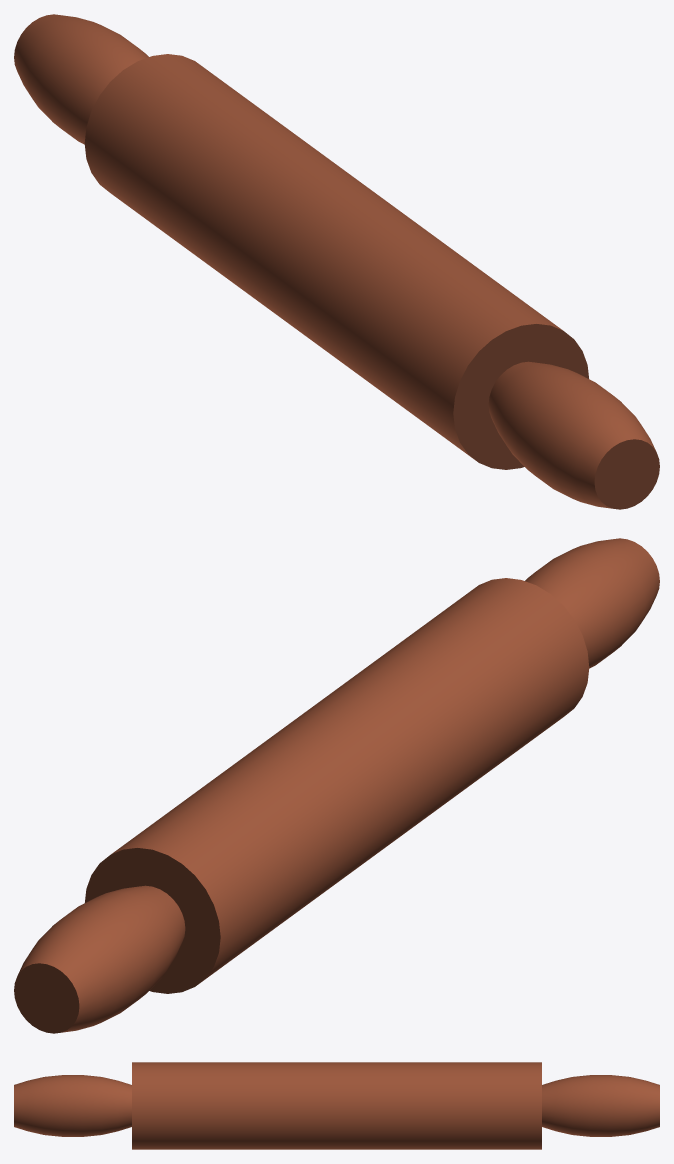
Rendered from Rolling Pin.fbx.
3 views of the same model, one above another, from view 1: azimuth 30°, elevation 25°; view 2: azimuth 150°, elevation 25°; view 3: azimuth 270°, elevation 25° (orthographic). The views are drawn at different scales.
Parts seen in each view (by area): view 1: Rolling Pin; view 2: Rolling Pin; view 3: Rolling Pin.
Boxes of the visible parts, <box> form: Rolling Pin: <box>14,14,659,509</box>; Rolling Pin: <box>14,538,659,1033</box>; Rolling Pin: <box>14,1062,659,1149</box>.
Size of the model in its own units: 0.1299 by 0.1299 by 0.9601.
